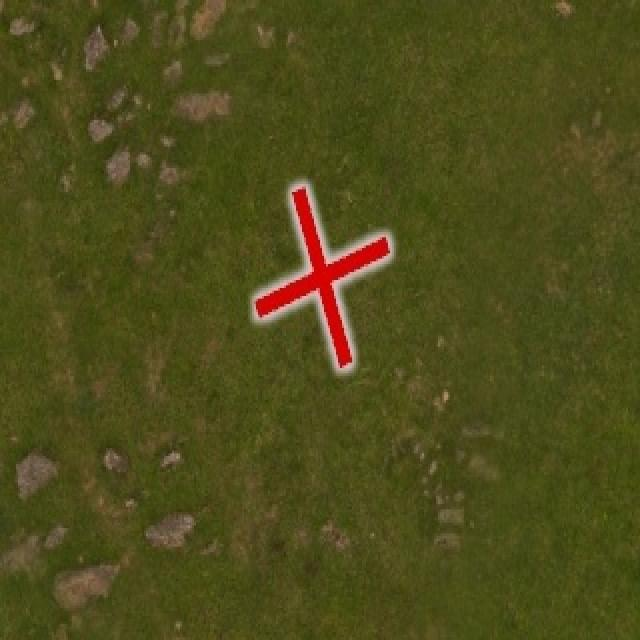x_marker: (255, 185, 389, 367)
